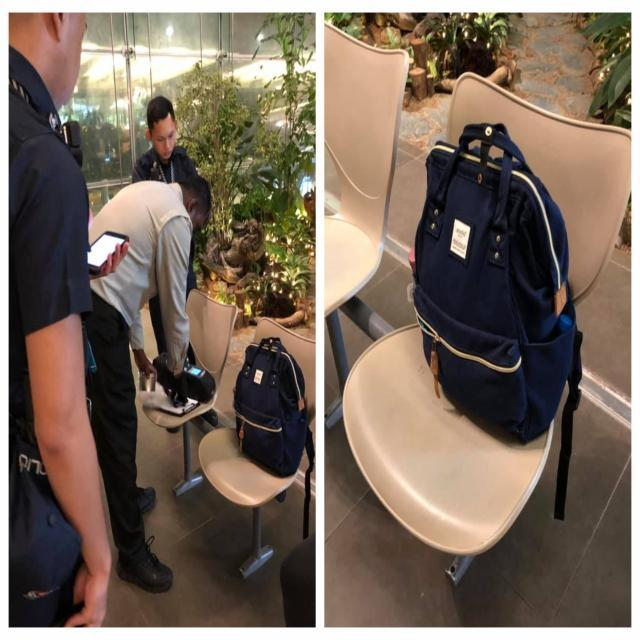Backpacks: (410, 117, 582, 458), (231, 338, 313, 488)
